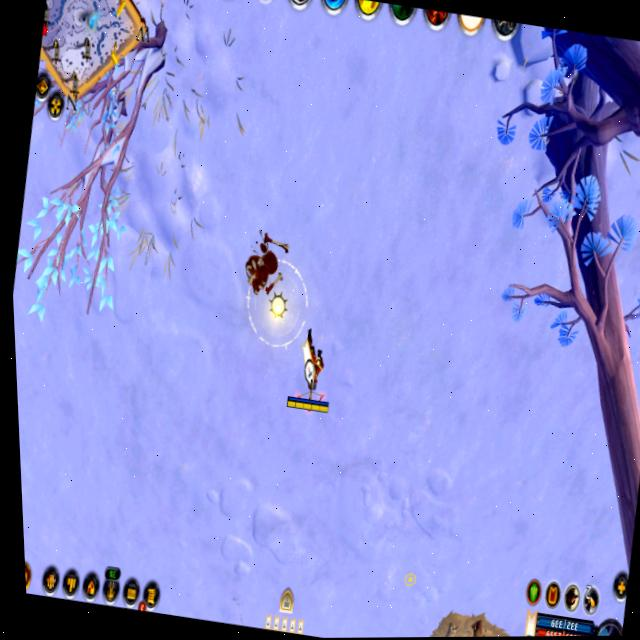ore: (456, 604, 502, 637)
red: (280, 323, 344, 422)
